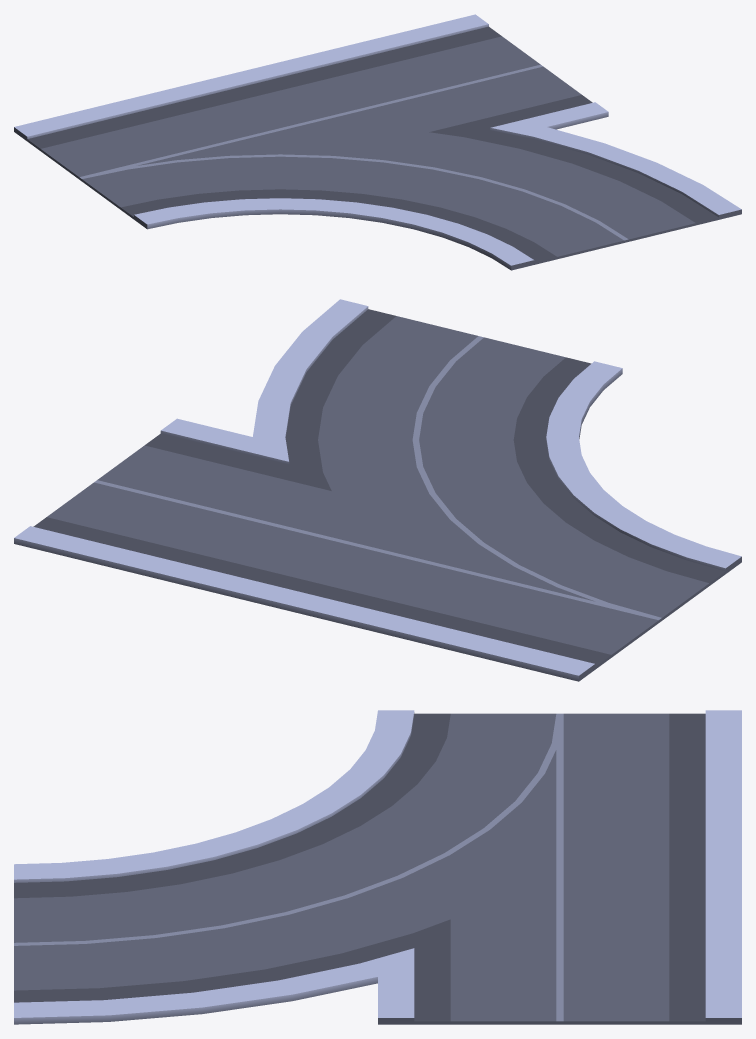
The model's file is road-curve-intersection.glb.
3 views of the same model, one above another, from view 1: azimuth 30°, elevation 25°; view 2: azimuth 150°, elevation 25°; view 3: azimuth 270°, elevation 25° (orthographic). The views are drawn at different scales.
Parts seen in each view (by area): view 1: road-curve-intersection; view 2: road-curve-intersection; view 3: road-curve-intersection.
Boxes of the visible parts, x1,y1,x2,y2 form: road-curve-intersection: (14,14,741,270); road-curve-intersection: (14,299,741,681); road-curve-intersection: (14,710,741,1024).
Size of the model in its own units: 2 by 0.02 by 2.
Materials: 1 (1 with a texture image).
